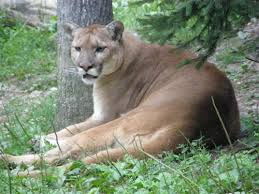Mountain Lion: (60, 18, 216, 116)
